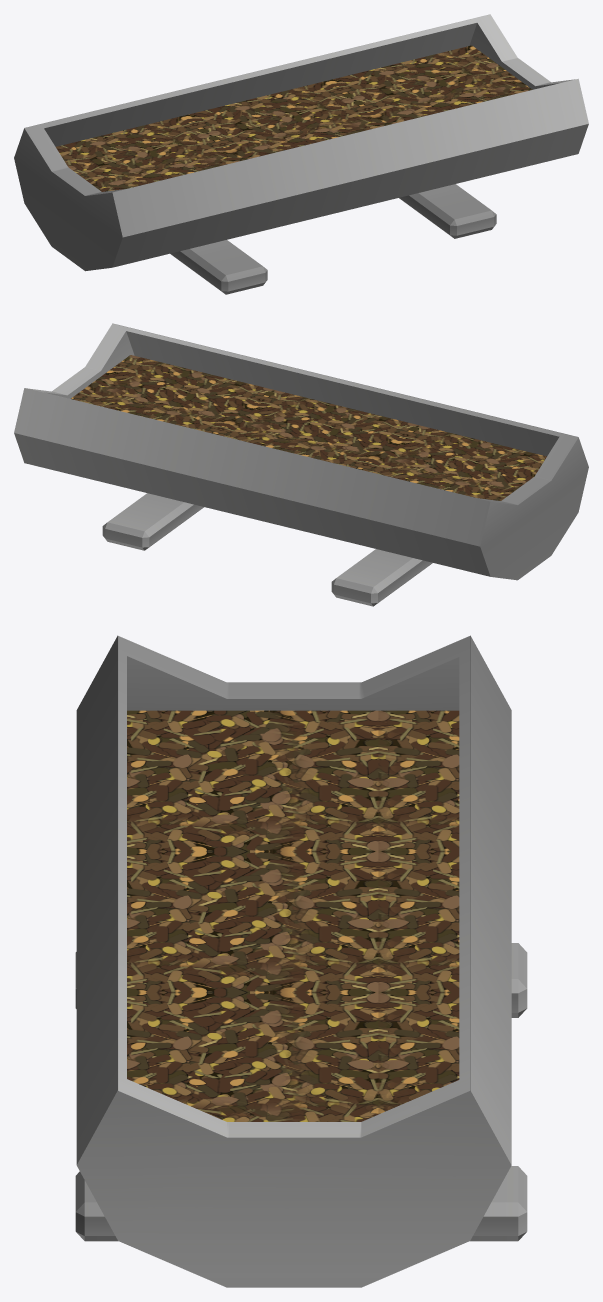
File: Trog.fbx
The picture shows the model from 3 angles, top to bottom: view 1: azimuth 30°, elevation 25°; view 2: azimuth 150°, elevation 25°; view 3: azimuth 270°, elevation 25°; orthographic projection. The views are drawn at different scales.
Visible parts, largest first — view 1: polySurface11; view 2: polySurface11; view 3: polySurface11.
Part boxes in pixels (x1,y1,x2,y2): polySurface11: (14,14,588,294); polySurface11: (14,323,588,606); polySurface11: (75,635,527,1287).
Bounding box in the file's own units: 5.01 × 1.25 × 2.1.
